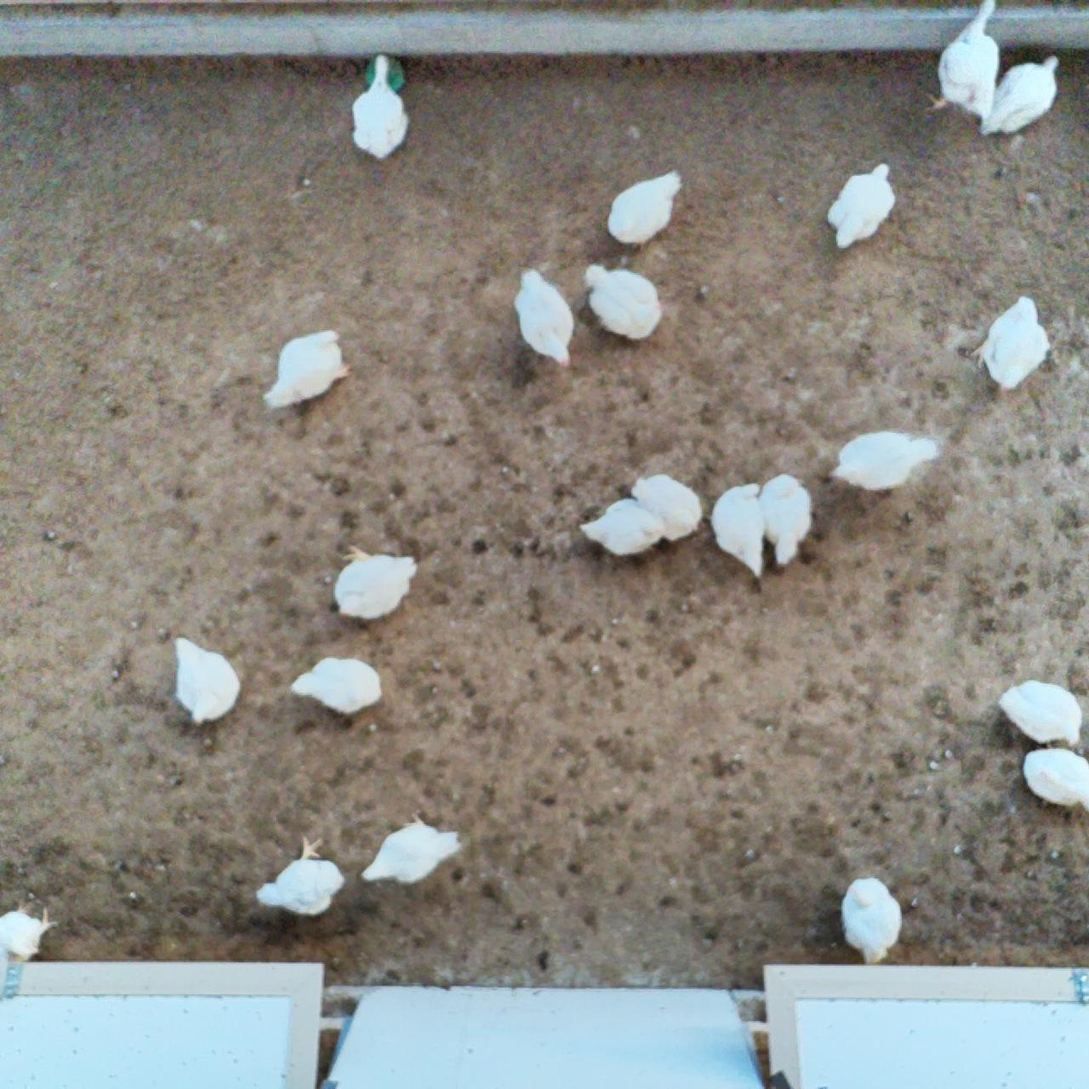chicken: (924, 0, 1004, 123), (356, 808, 466, 887), (256, 831, 349, 924), (969, 292, 1053, 392), (975, 53, 1065, 143), (260, 325, 354, 411), (828, 426, 944, 494), (512, 264, 585, 372), (167, 630, 245, 730), (330, 540, 421, 624), (348, 49, 412, 162), (582, 258, 666, 344), (825, 160, 902, 251), (285, 651, 389, 718), (996, 675, 1087, 751), (836, 870, 909, 964), (604, 170, 686, 252), (710, 480, 772, 579), (576, 495, 666, 561), (630, 470, 706, 547), (758, 471, 817, 569), (1021, 743, 1089, 815), (0, 897, 60, 965)
